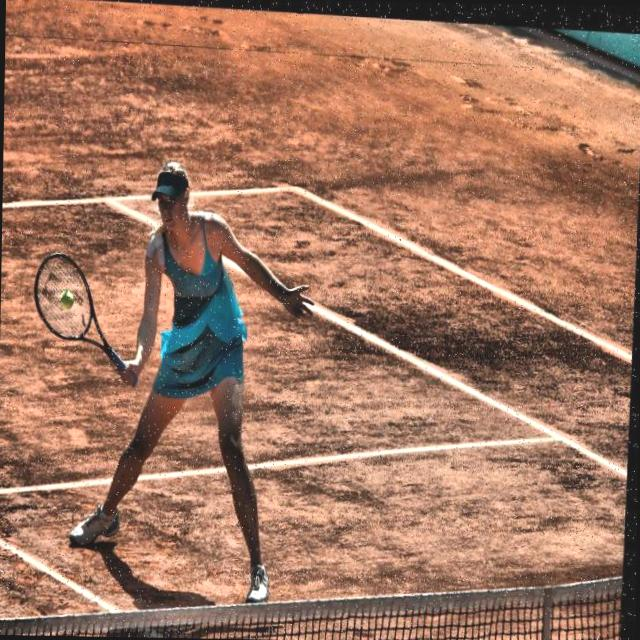Tennis Ball: (59, 286, 78, 311)
